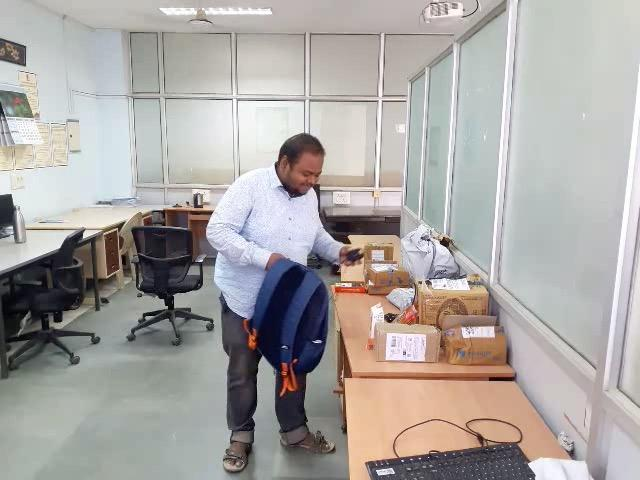shoplifting: (169, 222, 463, 399)
